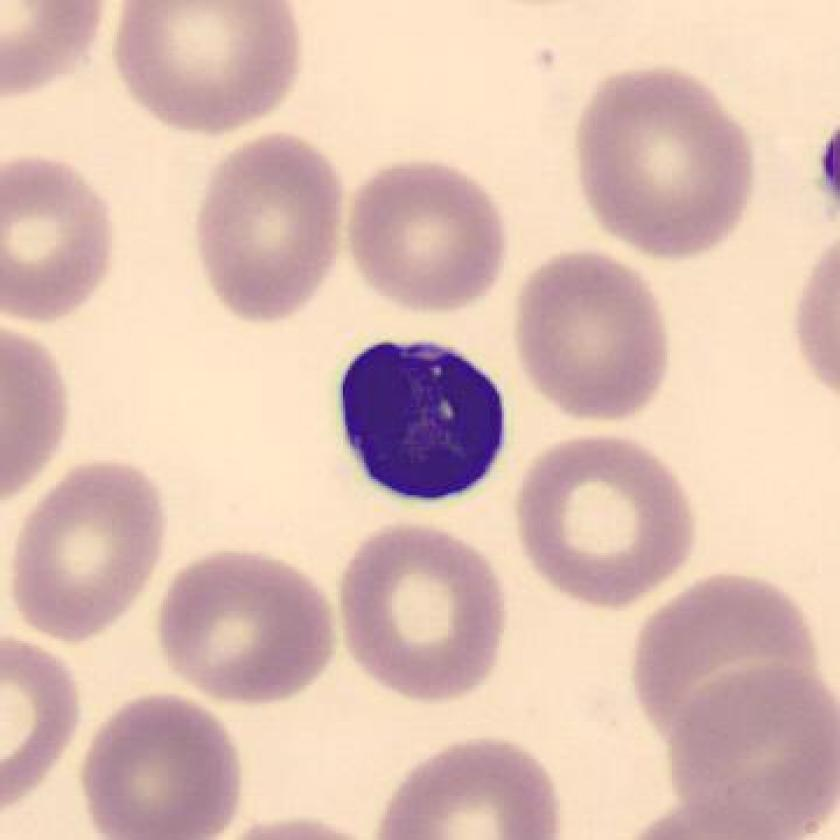lymphocyte: (311, 311, 538, 533)
